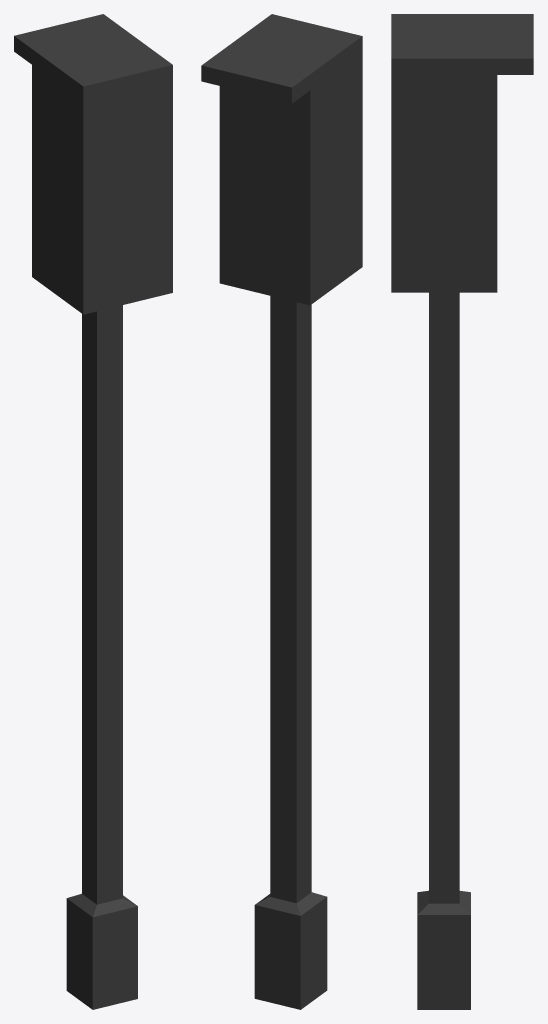
The model's file is traffic_light_2_2_world_ap_0_lev1.glb.
3 renders of one model, left to right at view 1: azimuth 30°, elevation 25°; view 2: azimuth 150°, elevation 25°; view 3: azimuth 270°, elevation 25°, orthographic. The views are drawn at different scales.
Parts seen in each view (by area): view 1: traffic_light_2_2_world_ap_0_lev1; view 2: traffic_light_2_2_world_ap_0_lev1; view 3: traffic_light_2_2_world_ap_0_lev1.
Boxes of the visible parts, x1,y1,x2,y2 form: traffic_light_2_2_world_ap_0_lev1: (14,14,172,1009); traffic_light_2_2_world_ap_0_lev1: (201,14,362,1009); traffic_light_2_2_world_ap_0_lev1: (391,14,533,1009).
Size of the model in its own units: 0.1445 by 1.45 by 0.1942.
1 material, 1 textured.
